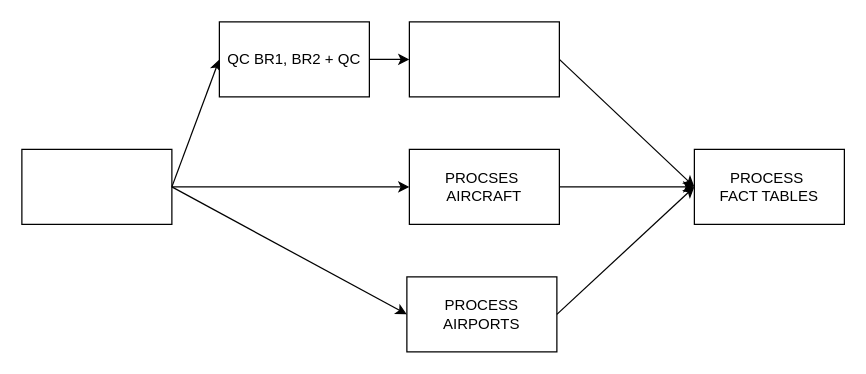
This 866x374 diagram has some shape labels left out. The shapes that lost their labels are listed below. From the top down, each one's centre as x and y in pixels, then its label:
At [483,59]: "PROCESS TIME".
At [96,186]: "CREATE DW".
